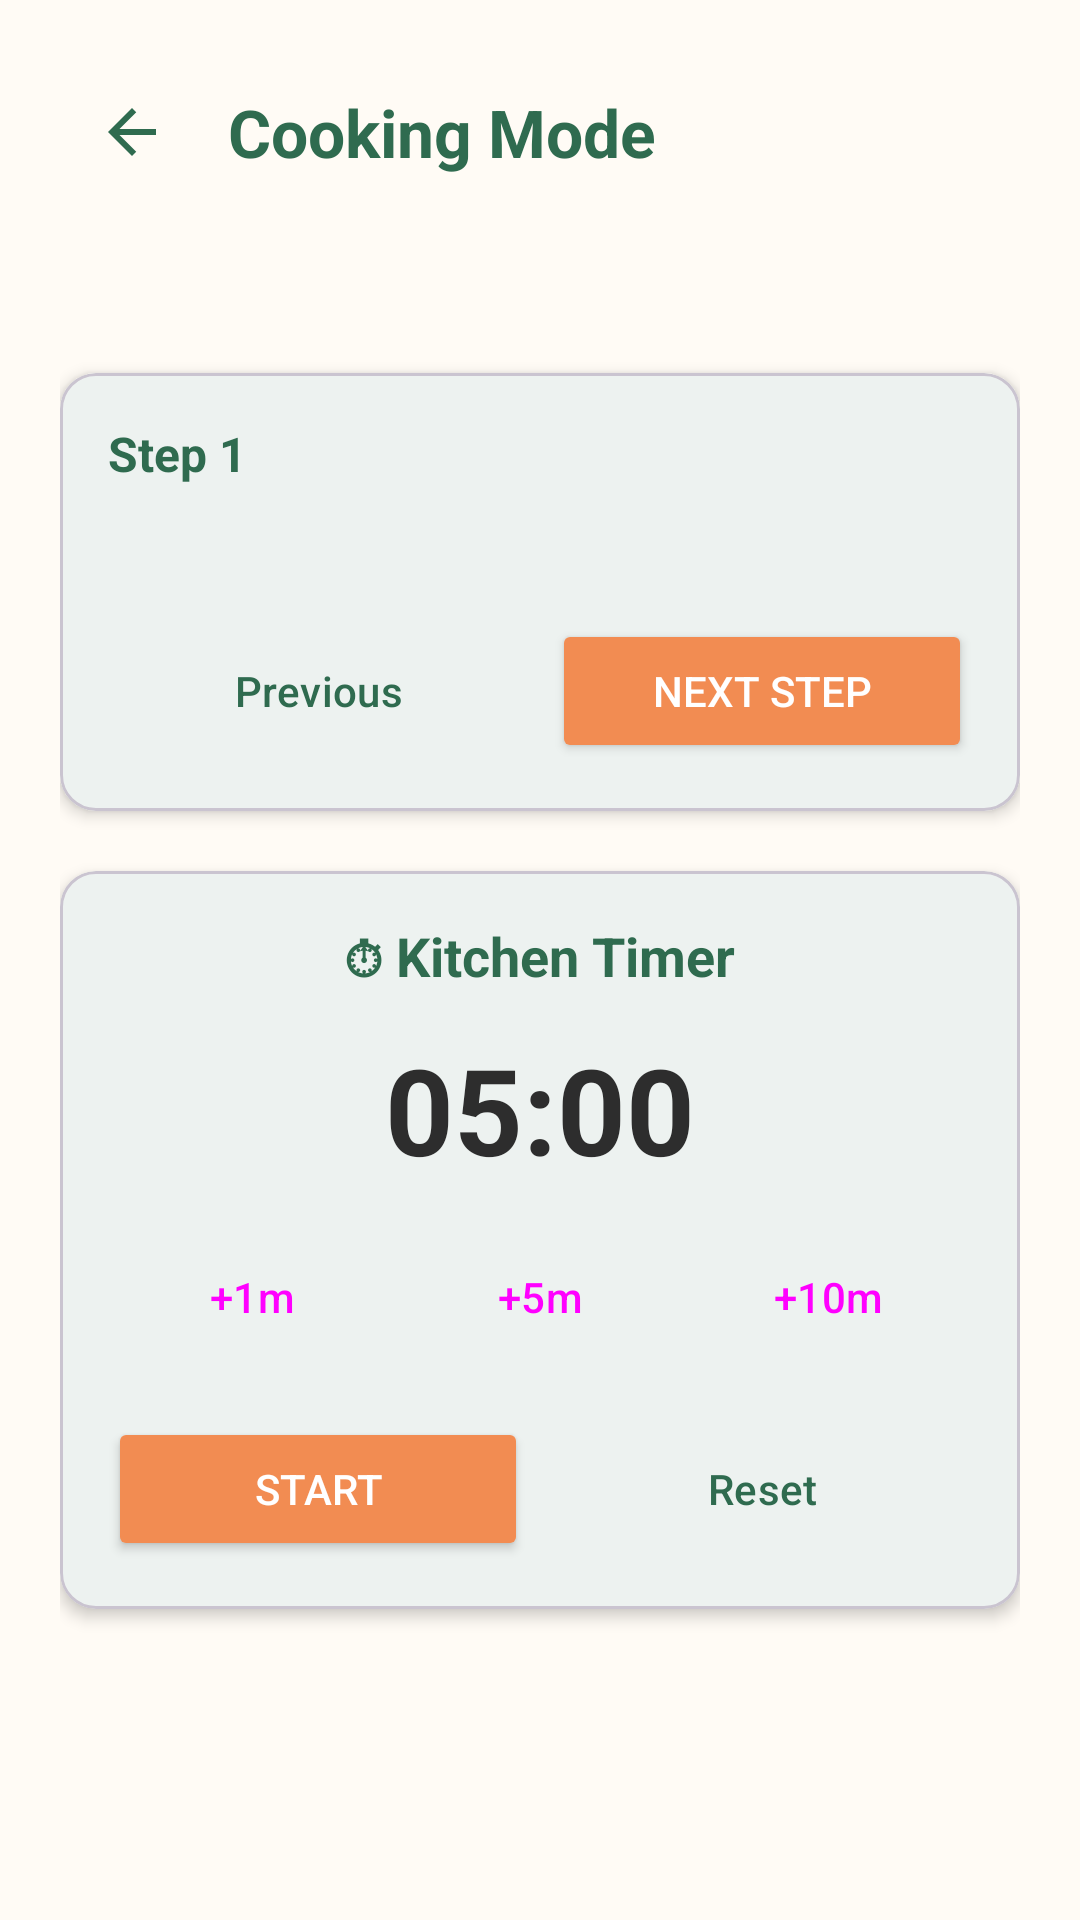

Icon click points for this 1080 x 1920 phone screenshot, format point (x, y):
Back: point (132, 132)
